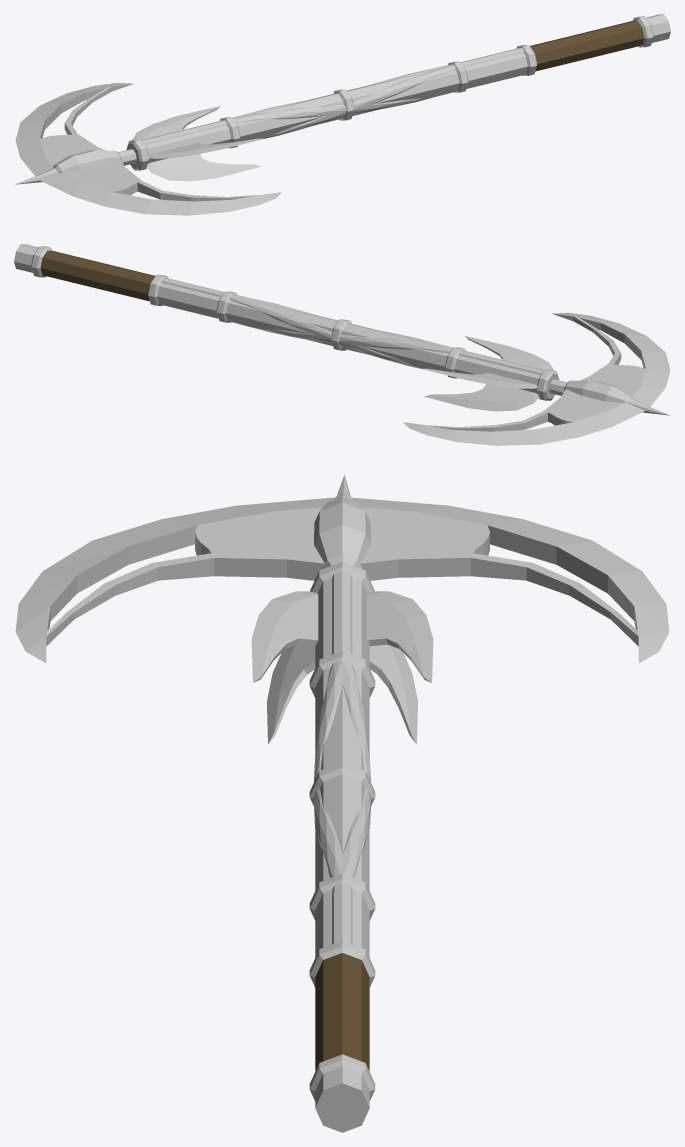
Rendered from ITMW_MAGESTAFF_BLADES_2H_01.OBJ.
3 views of the same model, one above another, from view 1: azimuth 30°, elevation 25°; view 2: azimuth 150°, elevation 25°; view 3: azimuth 270°, elevation 25° (orthographic). The views are drawn at different scales.
Visible parts, largest first — view 1: ITMW_MAGESTAFF_BLADES_2H_01; view 2: ITMW_MAGESTAFF_BLADES_2H_01; view 3: ITMW_MAGESTAFF_BLADES_2H_01.
Boxes of the visible parts, bbox=[...] form: ITMW_MAGESTAFF_BLADES_2H_01: bbox=[15, 14, 670, 215]; ITMW_MAGESTAFF_BLADES_2H_01: bbox=[14, 244, 670, 445]; ITMW_MAGESTAFF_BLADES_2H_01: bbox=[15, 474, 669, 1132].
Size of the model in its own units: 1.48 by 0.0845 by 0.6442.
